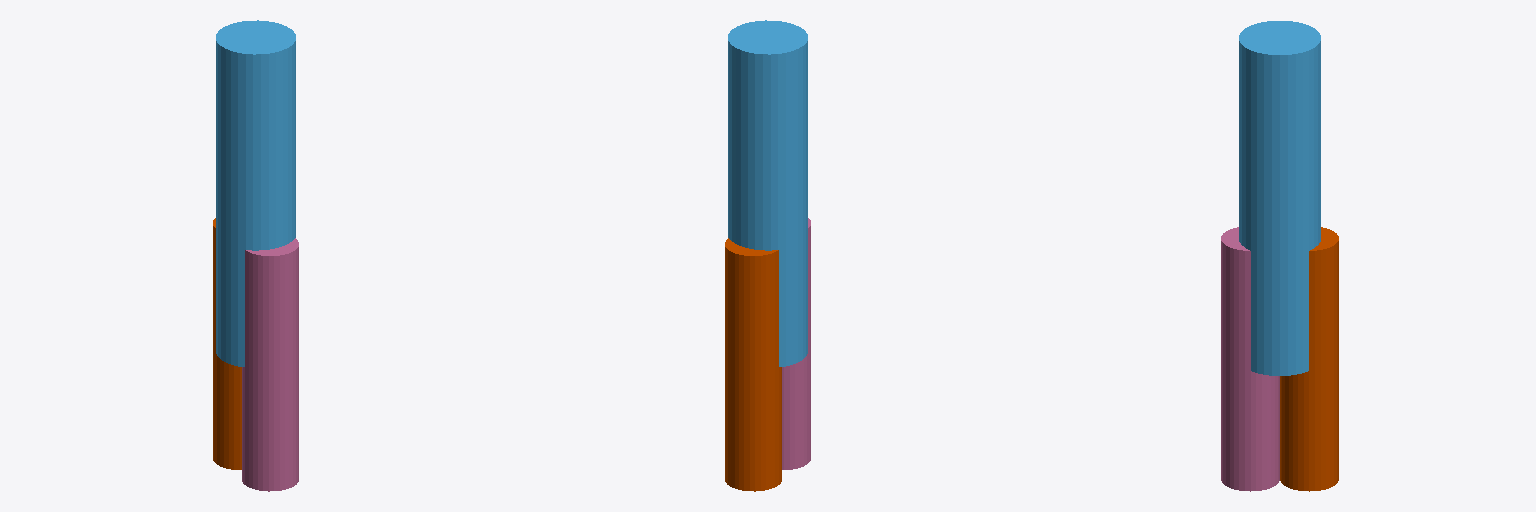
The robot description file, URDF, robot "walker":
<?xml version="1.0"?>
<robot name="walker">
  <link name="world"/>

  <link name="torso">
    <visual>
      <origin rpy="0 0 0" xyz="0 0 0"/>
      <geometry>
        <cylinder radius="0.07" length="0.6"/>
      </geometry>
    </visual>
    <collision>
      <origin rpy="0 0 0" xyz = "0 0 0"/>
      <geometry>
        <cylinder radius="0.07" length="0.6"/>
      </geometry>
    </collision>
    <inertial>
        <origin rpy="0 0 0" xyz="0 0 0"/>
        <mass value="1"/>
        <inertia ixx="0.002" ixy="0.0" ixz="0" iyy="0.002" iyz="0" izz="0.002"/>
    </inertial>
  </link>

  <link name="reference_1">
    <inertial>
        <origin rpy="0 0 0" xyz="0 0 0"/>
        <mass value="0"/>
        <inertia ixx="0" ixy="0" ixz="0" iyy="0" iyz="0" izz="0"/>
    </inertial>
  </link>

  <link name="reference_2">
    <inertial>
        <origin rpy="0 0 0" xyz="0 0 0"/>
        <mass value="0"/>
        <inertia ixx="0" ixy="0" ixz="0" iyy="0" iyz="0" izz="0"/>
    </inertial>
  </link>

  <link name="reference_3">
    <inertial>
        <origin rpy="0 0 0" xyz="0 0 0"/>
        <mass value="0"/>
        <inertia ixx="0" ixy="0" ixz="0" iyy="0" iyz="0" izz="0"/>
    </inertial>
  </link>

  <joint name="ref_plane_x" type="fixed">
    <parent link="world"/>
    <child link="reference_1"/>
    <origin xyz="0 0 0"/>
    <axis xyz="1 0 0"/>
  </joint>

  <joint name="ref_plane_z" type="prismatic">
    <parent link="reference_1"/>
    <child link="reference_2"/>
    <origin xyz="0 0 0"/>
    <axis xyz="1 0 0"/>
  </joint>

  <joint name="ref_rot_y" type="prismatic">
    <parent link="reference_2"/>
    <child link="reference_3"/>
    <origin xyz="0 0 0"/>
    <axis xyz="0 0 1"/>
  </joint>

  <joint name="plane_z" type="revolute">
    <parent link="reference_3"/>
    <child link="torso"/>
    <origin xyz="0 0 0"/>
    <axis xyz="0 1 0"/>
  </joint>

  <link name="right_thigh">
    <visual>
        <origin rpy="0 0 0" xyz="0 0 0"/>
        <geometry>
            <cylinder radius="0.05" length="0.45"/>
        </geometry>
    </visual>
    <collision>
        <origin rpy="0 0 0" xyz="0 0 0"/>
        <geometry>
            <cylinder radius="0.05" length="0.45"/>
        </geometry>
    </collision>
    <inertial>
        <origin rpy="0 0 0" xyz="0 0 0"/>
        <mass value="1"/>
        <inertia ixx="0.002" ixy="0.0" ixz="0" iyy="0.002" iyz="0" izz="0.002"/>
    </inertial>
  </link>

  <joint name="right_hip" type="revolute">
    <parent link="torso"/>
    <child link="right_thigh"/>
    <origin xyz="0.0 0.05 -0.3"/>
    <axis xyz="0 1 0"/>
  </joint>

  <link name="left_thigh">
    <visual>
        <origin rpy="0 0 0" xyz="0 0 0"/>
        <geometry>
            <cylinder radius="0.05" length="0.45"/>
        </geometry>
    </visual>
    <collision>
        <origin rpy="0 0 0" xyz="0 0 0"/>
        <geometry>
            <cylinder radius="0.05" length="0.45"/>
        </geometry>
    </collision>
    <inertial>
        <origin rpy="0 0 0" xyz="0 0 0"/>
        <mass value="1"/>
        <inertia ixx="0.002" ixy="0.0" ixz="0" iyy="0.002" iyz="0" izz="0.002"/>
    </inertial>
  </link>

  <joint name="left_hip" type="revolute">
    <parent link="torso"/>
    <child link="left_thigh"/>
    <origin xyz="0.0 -0.05 -0.3"/>
    <axis xyz="0 1 0"/>
  </joint>

</robot>

--- Facts derived from the render (not from the file) ---
The picture shows the robot from 3 angles, left to right: view 1: azimuth 30°, elevation 25°; view 2: azimuth 150°, elevation 25°; view 3: azimuth 270°, elevation 25°; orthographic projection.
Robot: walker — 7 links, 6 joints (3 revolute, 2 prismatic, 1 fixed); root link world; default pose: every joint at zero.
Links seen in each view (by area): view 1: torso, left_thigh, right_thigh; view 2: torso, right_thigh, left_thigh; view 3: torso, right_thigh, left_thigh.
Link boxes in pixels (x1=…): torso: x1=216, y1=20, x2=295, y2=366; left_thigh: x1=242, y1=238, x2=298, y2=491; right_thigh: x1=213, y1=218, x2=241, y2=469; torso: x1=728, y1=20, x2=807, y2=366; right_thigh: x1=725, y1=238, x2=781, y2=491; left_thigh: x1=782, y1=218, x2=810, y2=469; torso: x1=1239, y1=21, x2=1320, y2=375; right_thigh: x1=1280, y1=227, x2=1338, y2=491; left_thigh: x1=1221, y1=227, x2=1279, y2=491.
Bounding box of the posed robot: 0.14 × 0.2 × 0.825 m (x, y, z).
Geometry: primitives only (box / cylinder / sphere), no mesh files.
